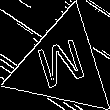M_S: (33, 34, 90, 96)
